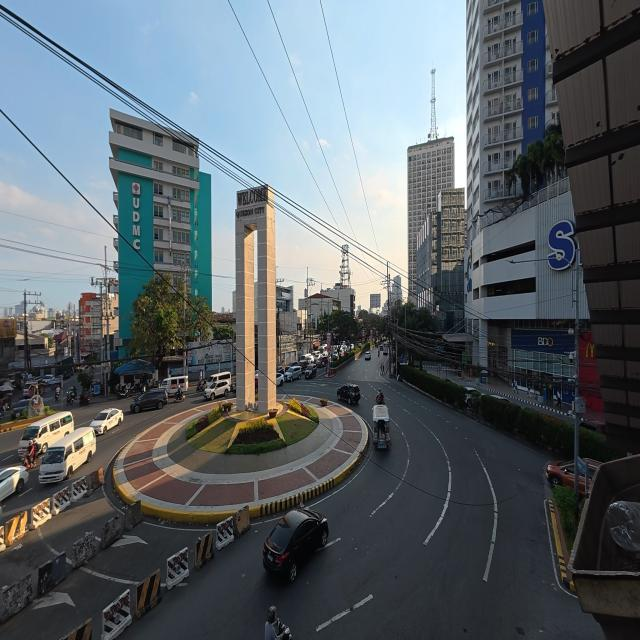Jeepneys: (373, 405, 390, 448)
car: (263, 509, 328, 582), (0, 466, 28, 501), (130, 388, 168, 412), (90, 409, 123, 435), (204, 381, 230, 399), (337, 384, 360, 404), (585, 459, 600, 486), (11, 398, 30, 419), (580, 420, 605, 434), (284, 365, 302, 382), (465, 387, 481, 405), (23, 381, 39, 398), (490, 394, 511, 403), (48, 376, 62, 388), (305, 364, 316, 378), (275, 372, 285, 387), (285, 362, 298, 373), (316, 355, 328, 366), (299, 360, 309, 372), (42, 375, 54, 384), (303, 353, 314, 362), (276, 366, 284, 375), (230, 381, 236, 393), (255, 372, 258, 392), (382, 346, 388, 356), (365, 351, 371, 360), (350, 344, 354, 350)
motorcycle: (277, 619, 292, 639), (21, 452, 37, 470), (117, 387, 129, 399), (79, 394, 89, 405), (67, 392, 75, 404), (197, 380, 205, 392), (376, 395, 385, 404), (174, 394, 184, 402), (55, 390, 59, 400)
vans: (39, 427, 96, 484), (18, 412, 74, 455), (160, 376, 188, 394), (207, 372, 231, 387)
